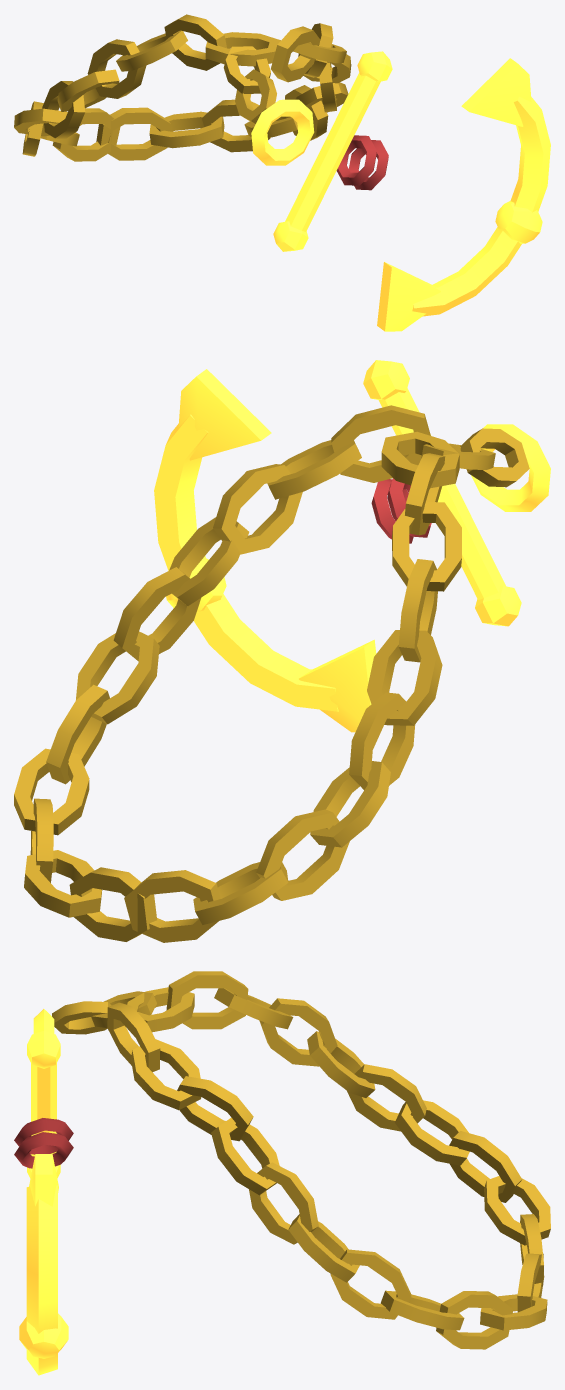
File: ancre_doree.fbx
The picture shows the model from 3 angles, top to bottom: view 1: azimuth 30°, elevation 25°; view 2: azimuth 150°, elevation 25°; view 3: azimuth 270°, elevation 25°; orthographic projection. The views are drawn at different scales.
Parts seen in each view (by area): view 1: Anim_Ancre, Chaine, Anim_Maillon_2, Anim_Maillon_1; view 2: Chaine, Anim_Ancre, Anim_Maillon_2, Anim_Maillon_1; view 3: Chaine, Anim_Ancre, Anim_Maillon_2, Anim_Maillon_1.
Boxes of the visible parts, bbox=[...] form: Anim_Ancre: bbox=[251, 51, 550, 331]; Chaine: bbox=[14, 14, 351, 161]; Anim_Maillon_2: bbox=[235, 69, 276, 123]; Anim_Maillon_1: bbox=[223, 46, 270, 93]; Chaine: bbox=[14, 405, 461, 942]; Anim_Ancre: bbox=[154, 360, 550, 732]; Anim_Maillon_2: bbox=[460, 428, 529, 487]; Anim_Maillon_1: bbox=[421, 443, 495, 469]; Chaine: bbox=[107, 971, 550, 1349]; Anim_Ancre: bbox=[14, 1009, 73, 1375]; Anim_Maillon_2: bbox=[52, 1001, 111, 1034]; Anim_Maillon_1: bbox=[91, 991, 156, 1027].
Size of the model in its own units: 1.02 by 0.7993 by 1.24.
